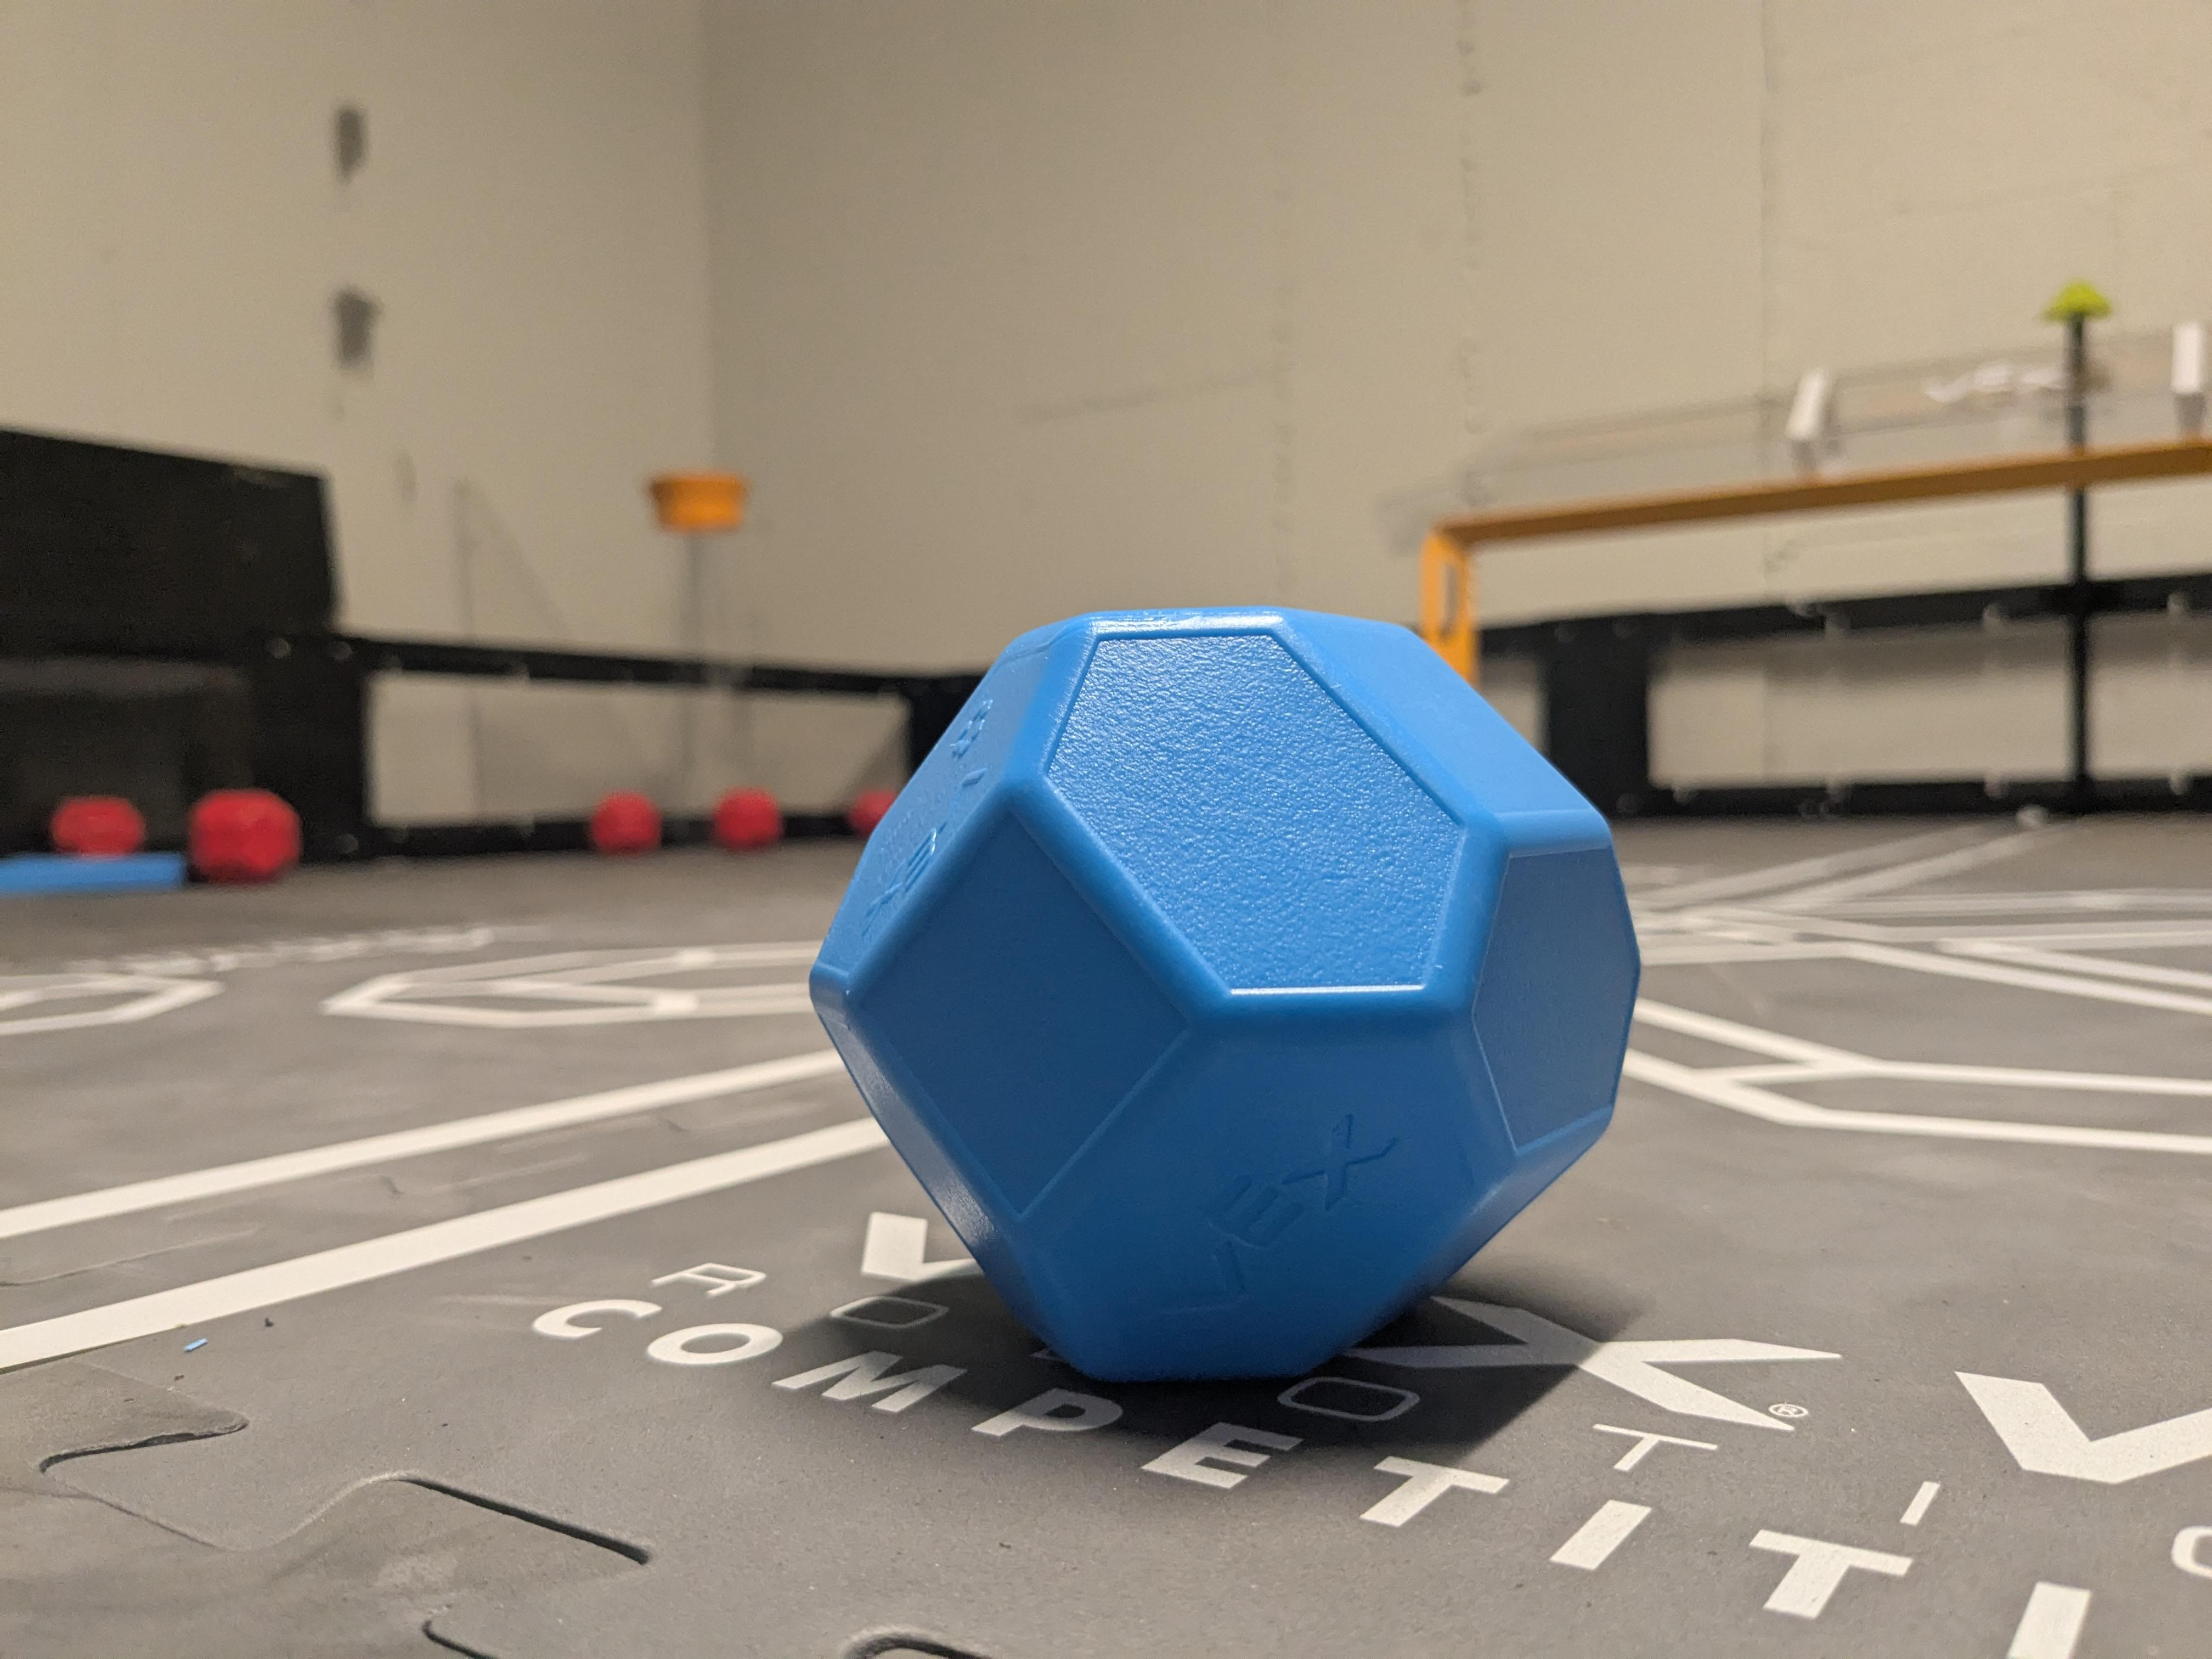Vex-Pieces-BLUE: (812, 608, 1639, 1380)
